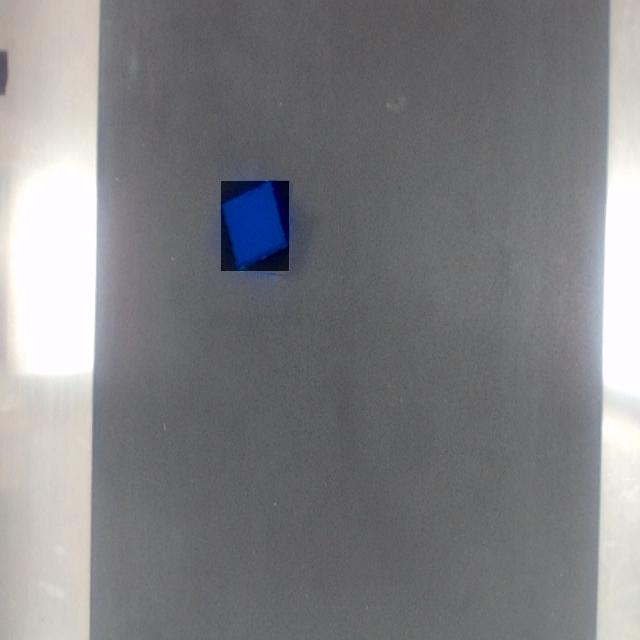Azul: (222, 182, 289, 271)
